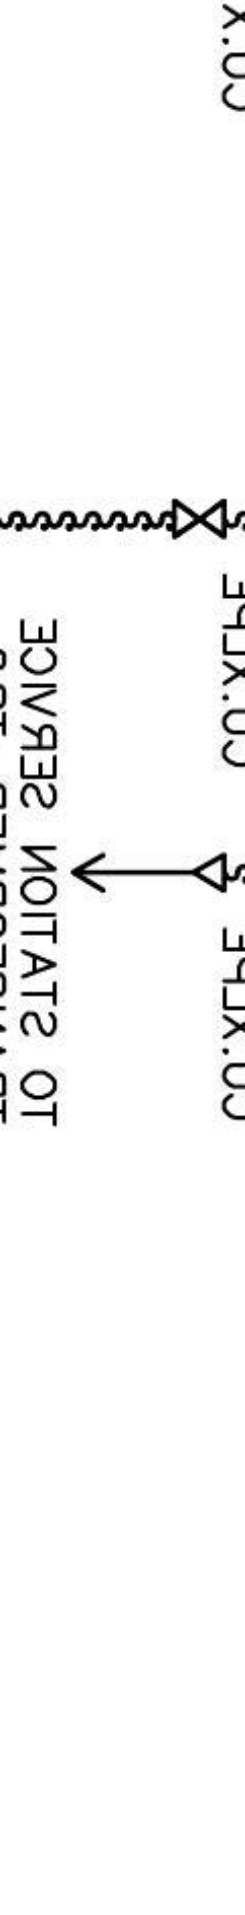terminator_single: (190, 849, 229, 894)
terminator_splicing_kits: (171, 498, 227, 541)
